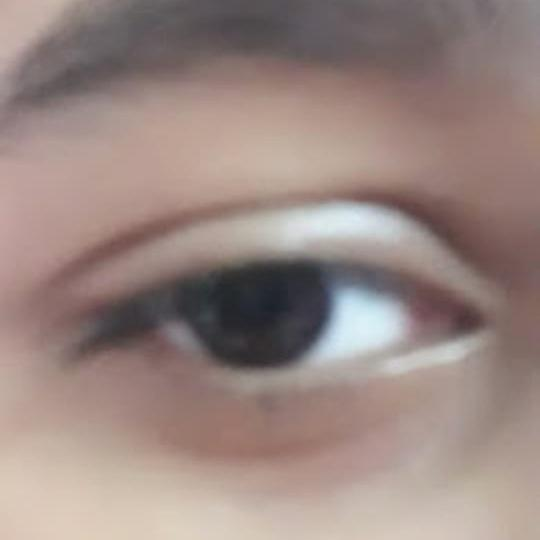open: (15, 151, 540, 465)
